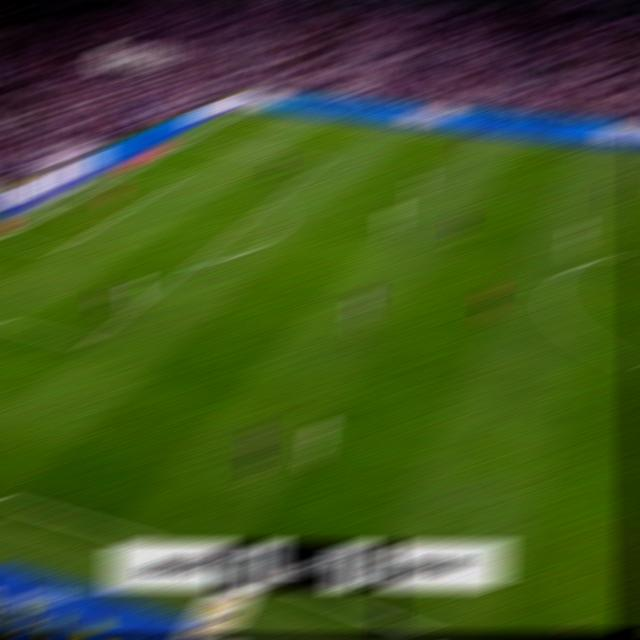bigarea_bottom_inner: (78, 334, 99, 351)
bigarea_top_inner: (313, 155, 331, 166)
bigarea_top_outter: (180, 137, 198, 143)
bottom_arc_area_intersection: (181, 258, 201, 270)
corner: (236, 109, 255, 113)
smallarea_top_inner: (169, 177, 185, 181)
top_arc_area_intersection: (262, 196, 280, 205)
